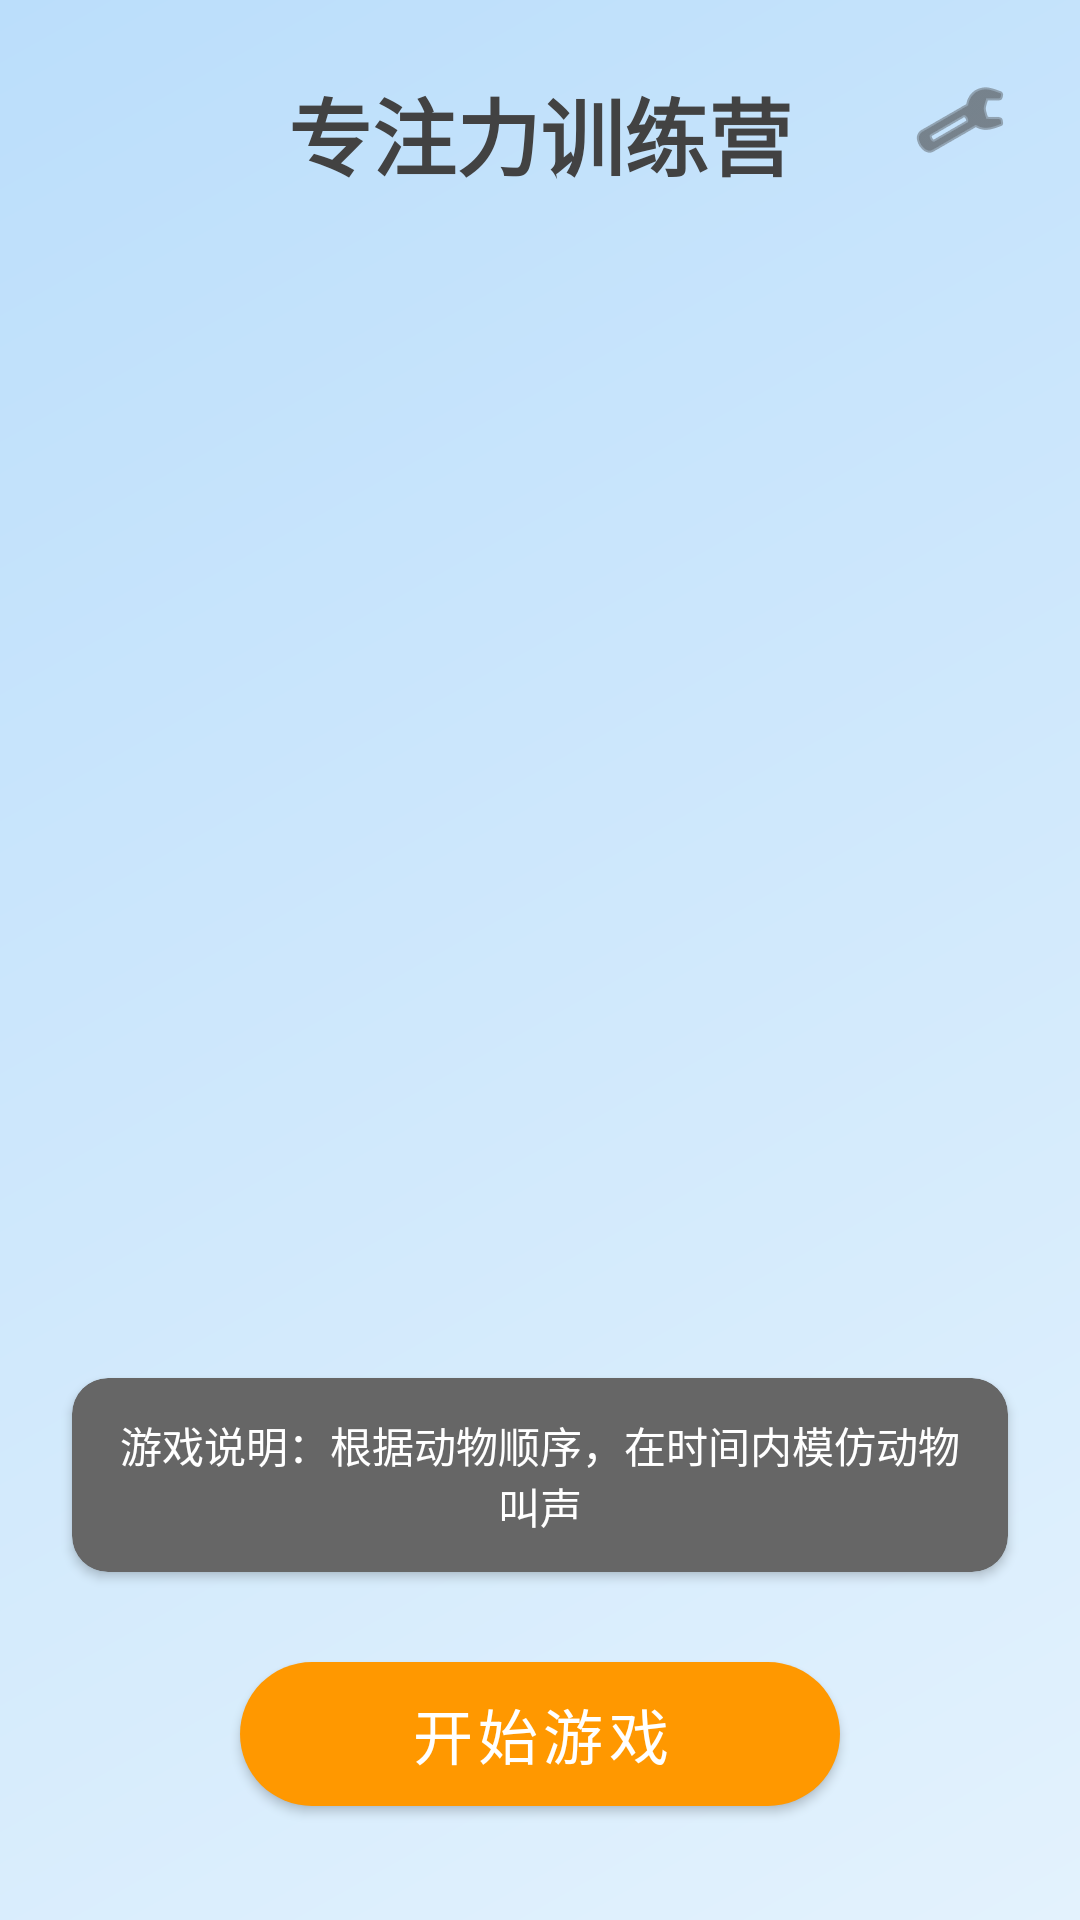

Named icons in this screenshot (1080px×1920px) and their centers, [x,y]:
设置: [960,120]
